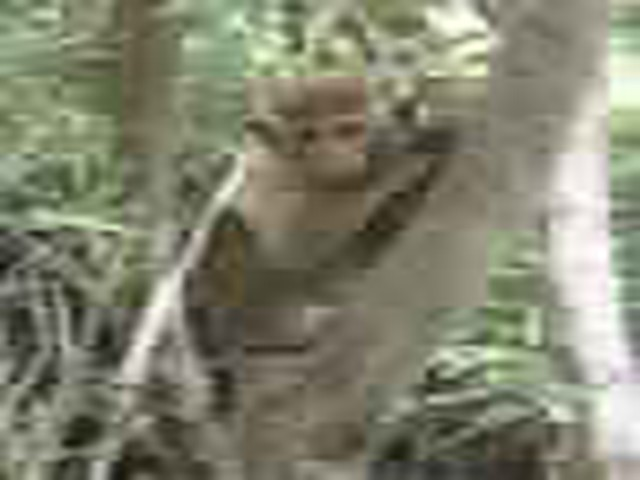Monkey: (245, 79, 384, 220)
